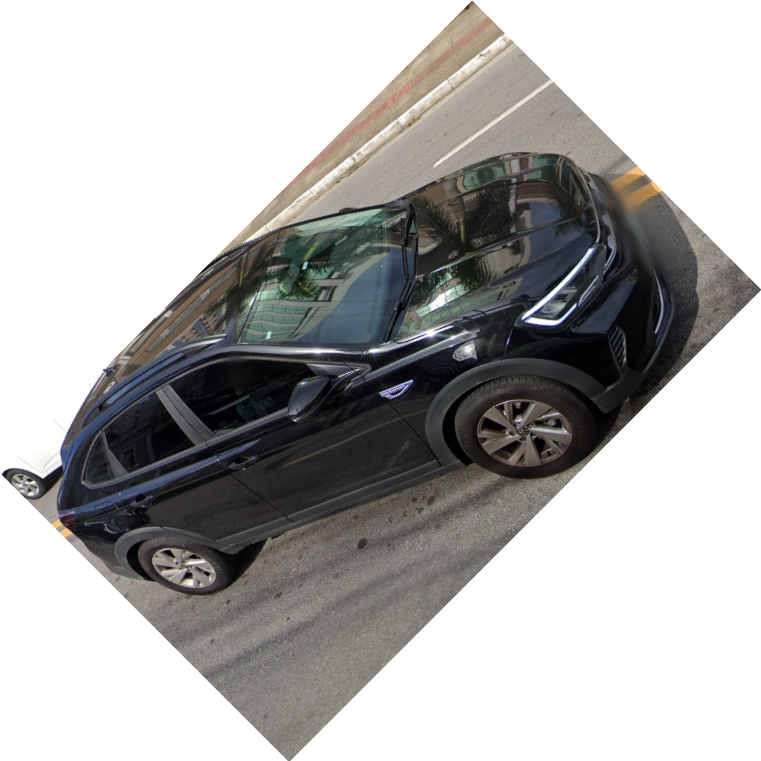car: (56, 152, 678, 595)
